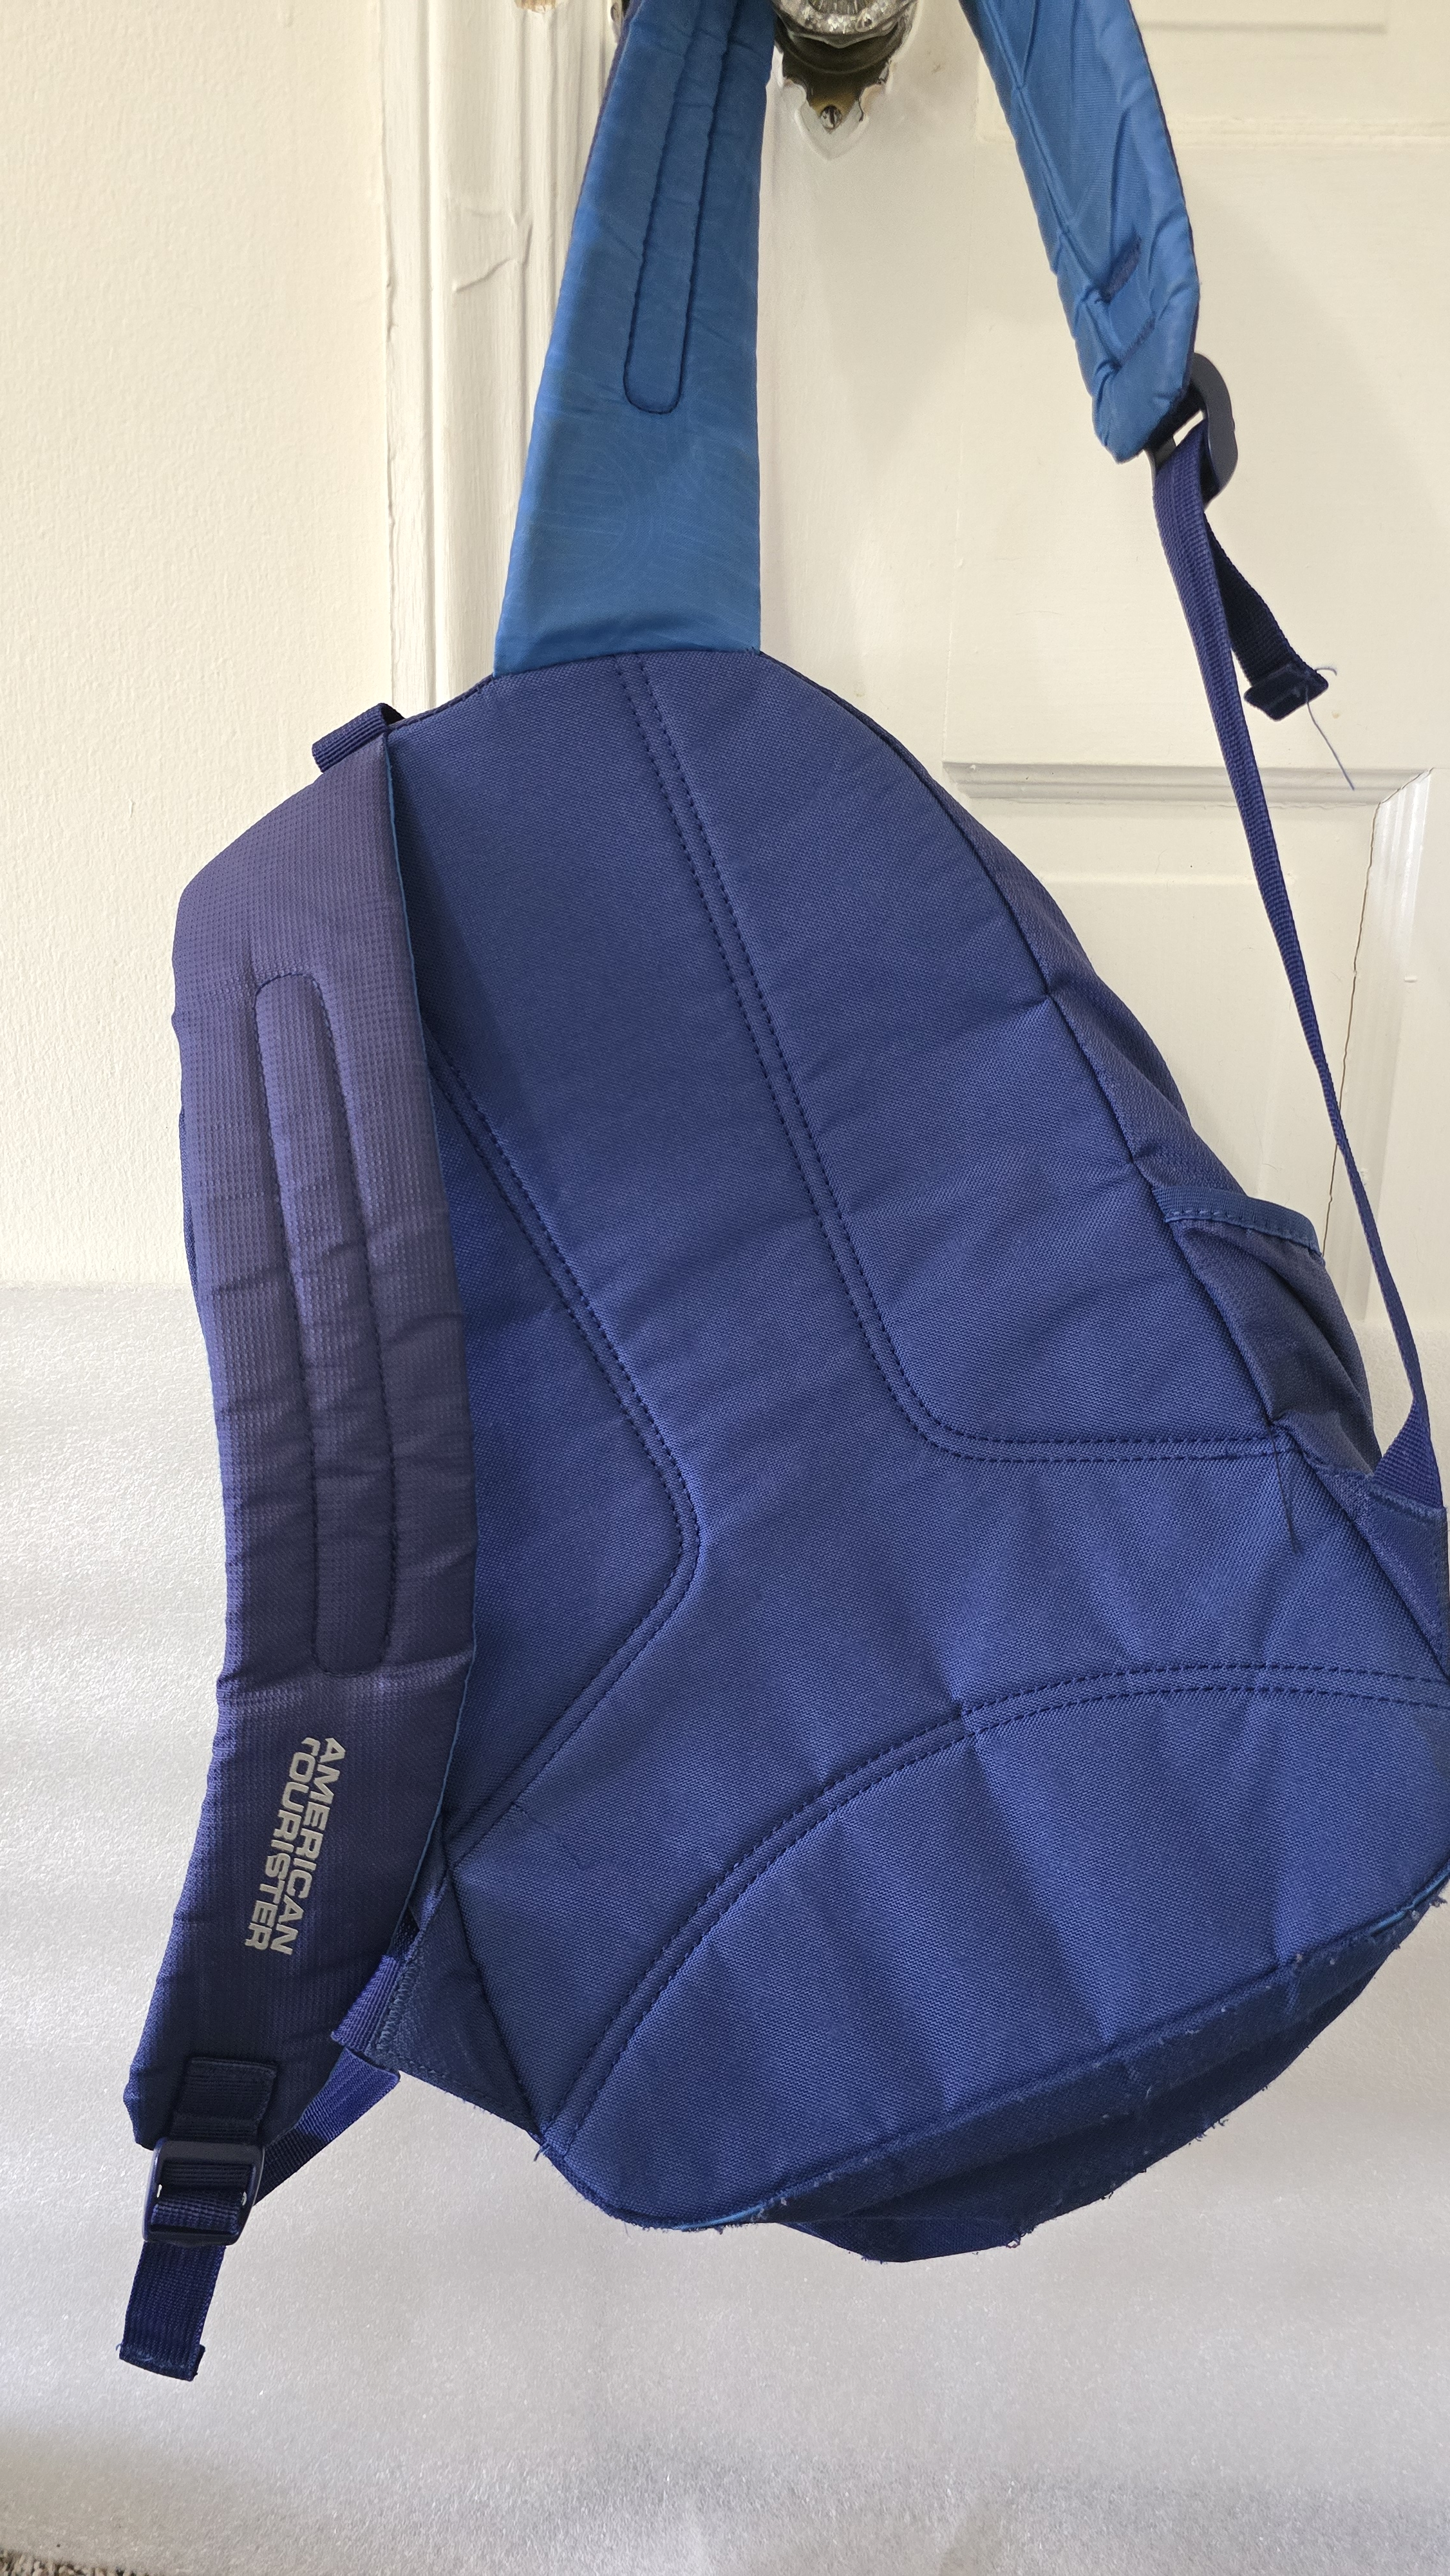bag: (88, 11, 1450, 2358)
